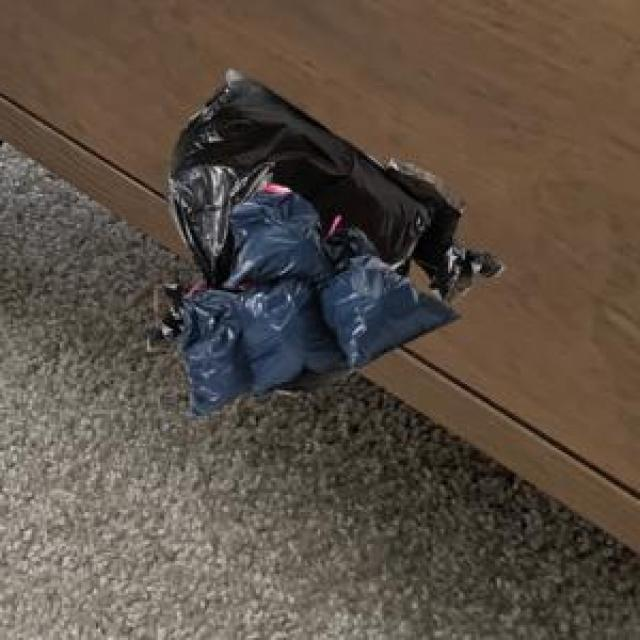Trashbag: (225, 180, 328, 292), (332, 265, 446, 365), (246, 280, 338, 387), (175, 286, 249, 414)
